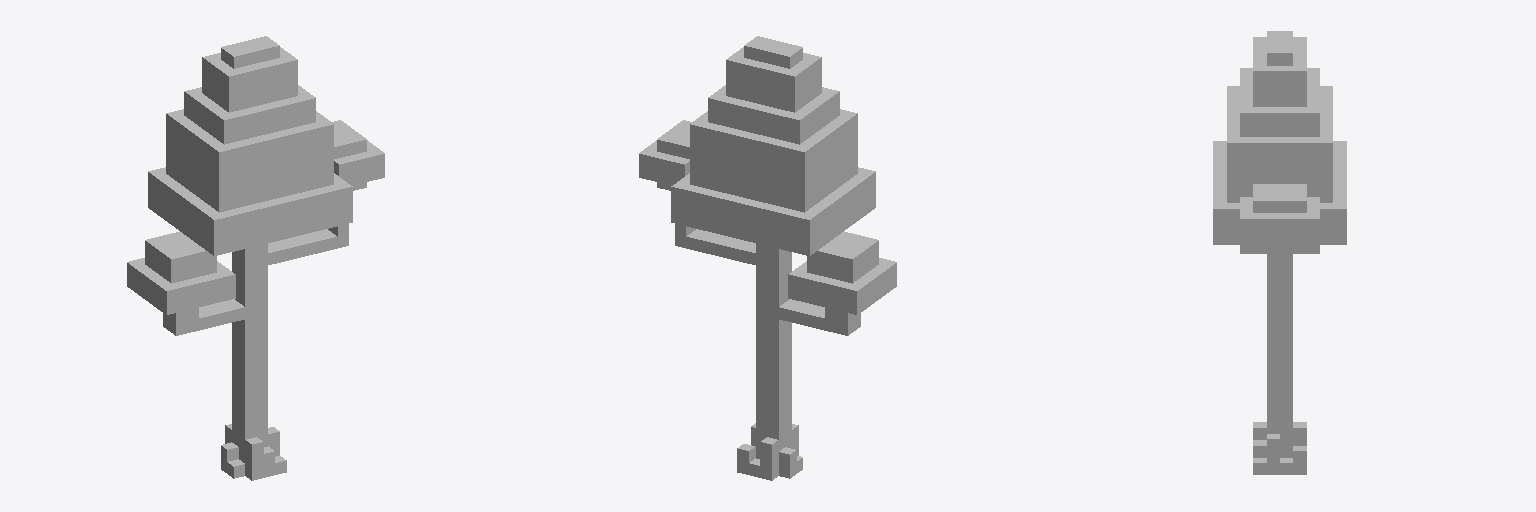
File: tree02.obj
The picture shows the model from 3 angles: view 1: azimuth 30°, elevation 25°; view 2: azimuth 150°, elevation 25°; view 3: azimuth 270°, elevation 25°; orthographic projection.
Visible parts, largest first — view 1: tree02; view 2: tree02; view 3: tree02.
Part boxes in pixels (bbox=[...]): tree02: bbox=[127, 36, 384, 480]; tree02: bbox=[639, 36, 896, 480]; tree02: bbox=[1213, 31, 1346, 474].
Size of the model in its own units: 19 by 35 by 10.